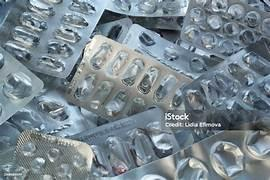pill_Strip: (67, 35, 190, 118), (0, 0, 105, 77), (112, 131, 269, 179), (183, 49, 269, 124), (181, 0, 269, 57), (70, 108, 163, 161), (123, 24, 214, 78), (9, 89, 96, 136), (14, 131, 93, 178), (0, 48, 42, 123), (106, 0, 187, 16), (96, 18, 132, 42), (0, 121, 19, 166), (132, 16, 183, 31)
